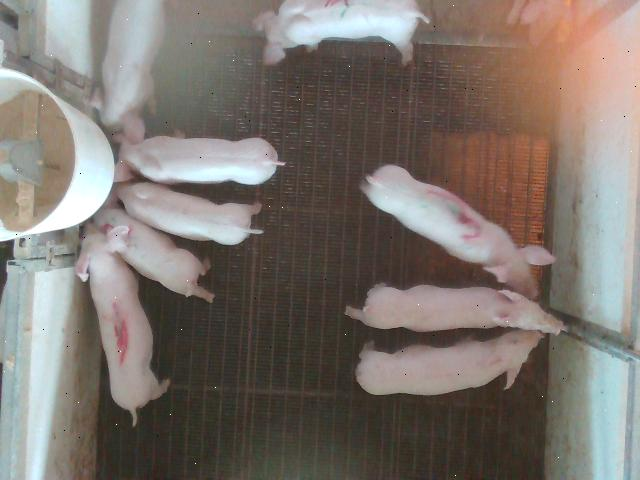pig-1: (76, 224, 169, 425)
pig-3: (361, 166, 555, 299)
pig-5: (94, 208, 215, 302)
